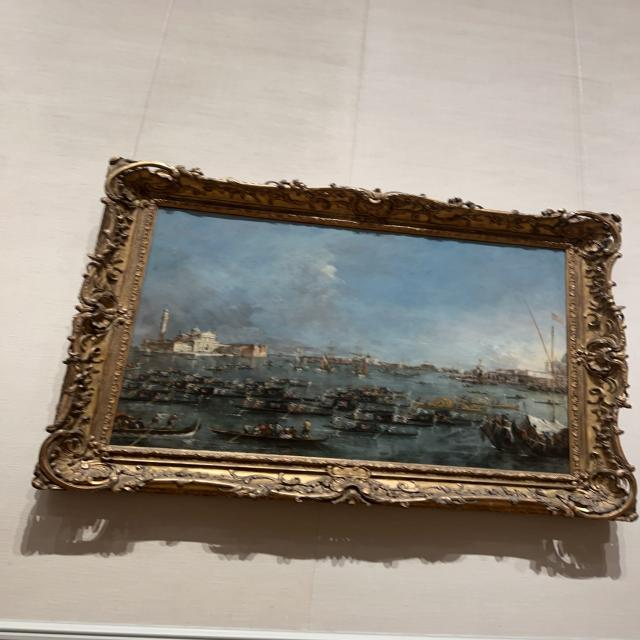ships: (119, 216, 565, 468)
